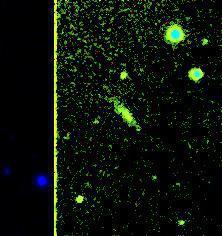star: (79, 101, 109, 131)
